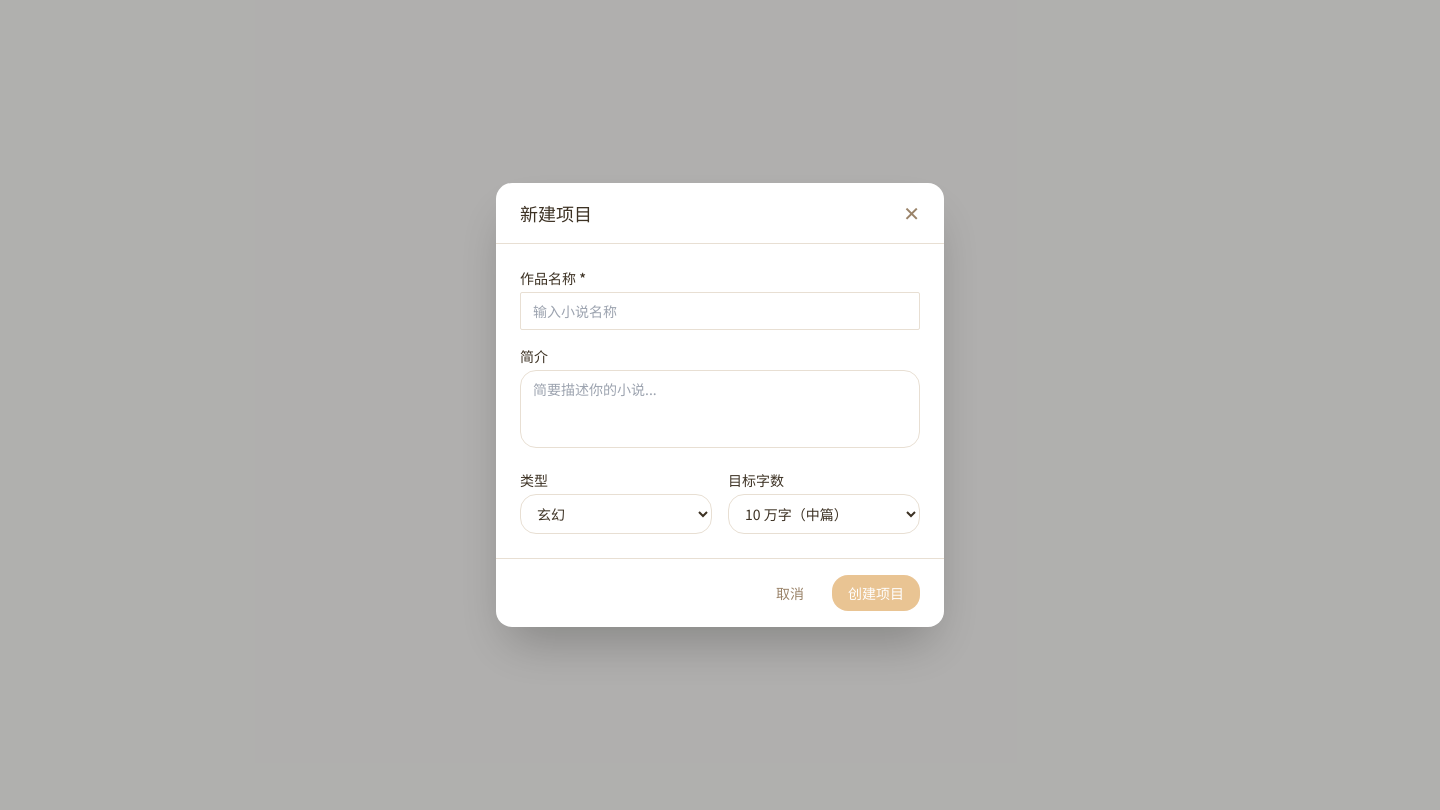
Test case: ProjectDialog › should show error when novel creation fails
In the field with placeholder "输入小说名称": [720, 311] box [520,292,920,330], type "My Novel"
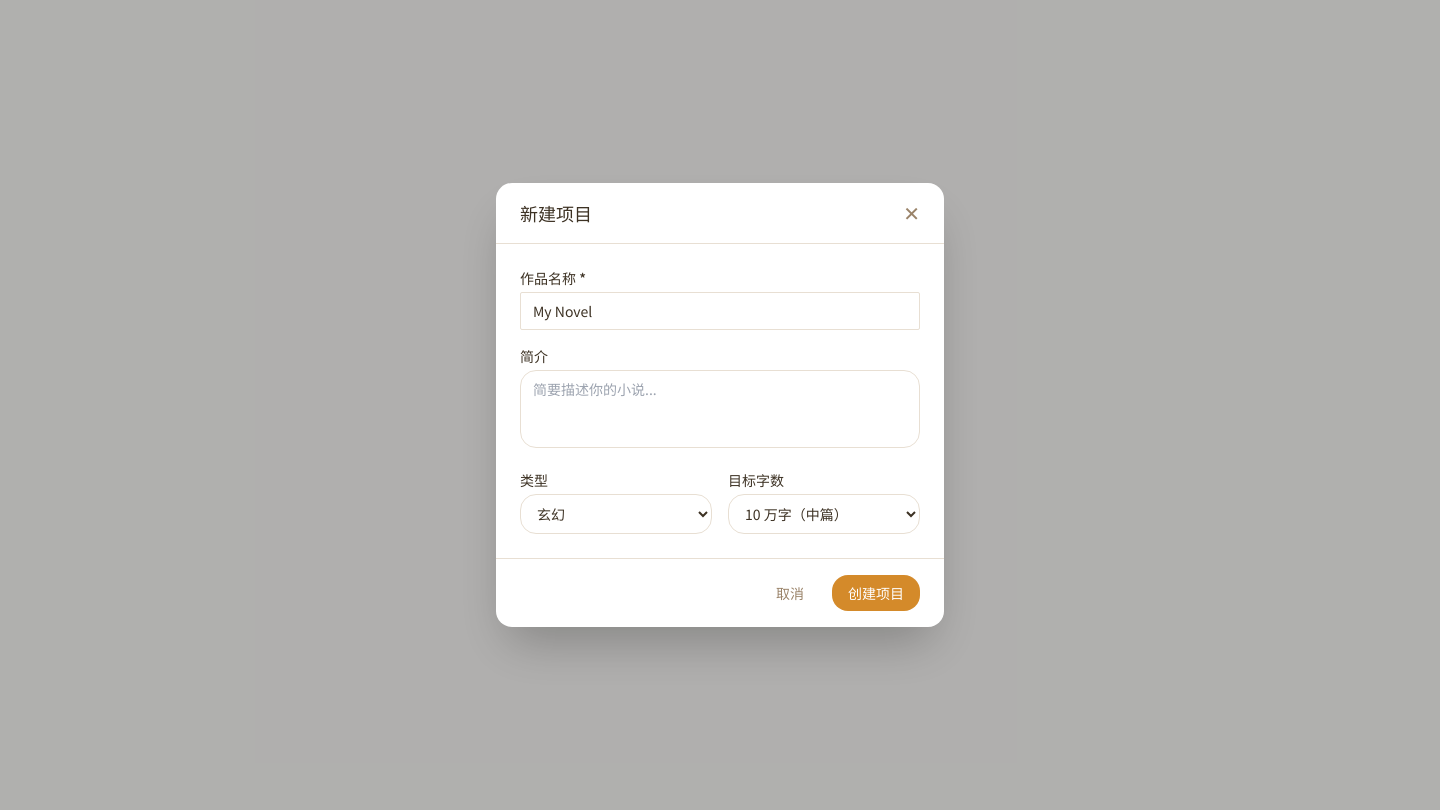
Click the button "创建项目": [876, 593] box [832,575,920,611]
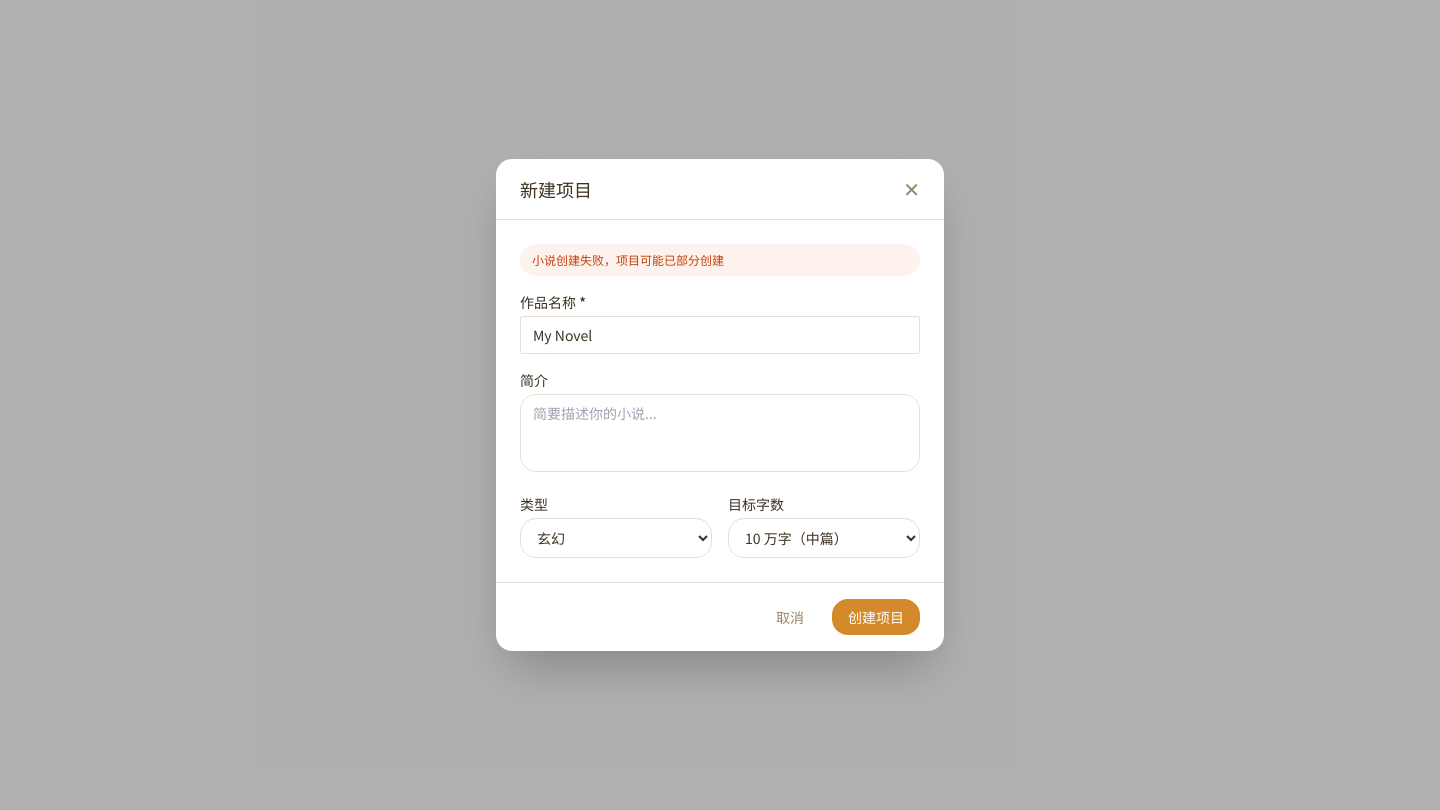
Expected: the text "小说创建失败，项目可能已部分创建" is shown, [520,244,920,276]
